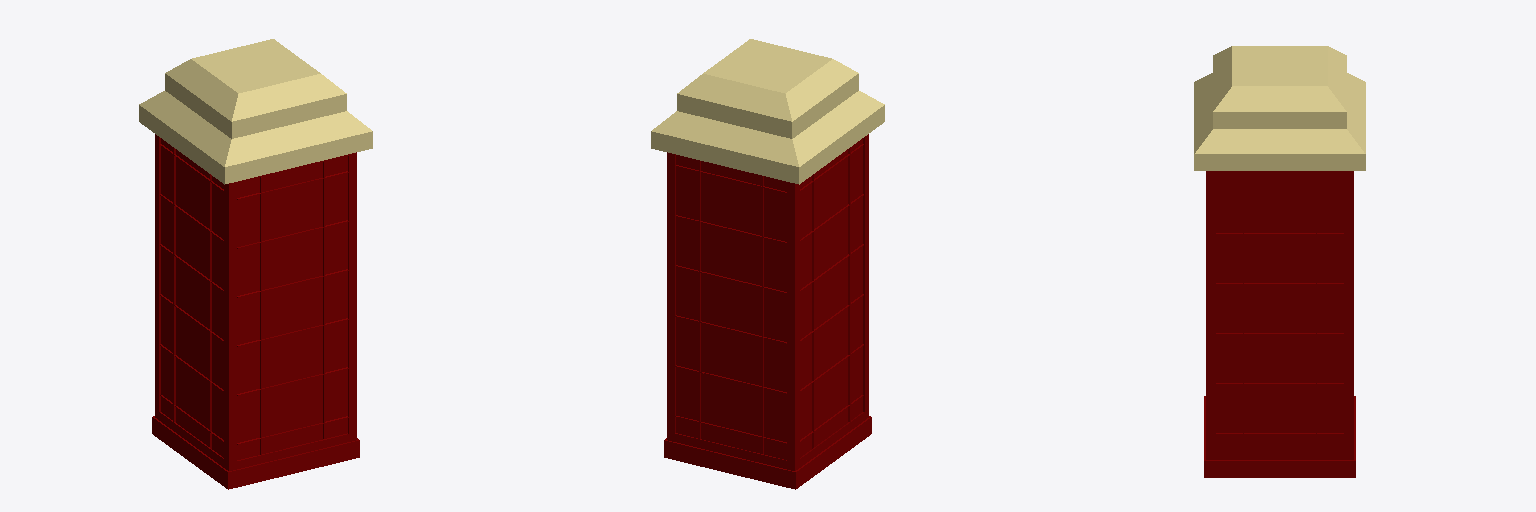
Rendered from PhoneBooth_001.obj.
3 views of the same model, side by side, from view 1: azimuth 30°, elevation 25°; view 2: azimuth 150°, elevation 25°; view 3: azimuth 270°, elevation 25° (orthographic).
Visible parts, largest first — view 1: door, Box001, Box003; view 2: Box001, Box003; view 3: Box001, Box003.
Boxes of the visible parts, x1=… form: door: x1=229, y1=152, x2=356, y2=470; Box001: x1=152, y1=134, x2=359, y2=489; Box003: x1=139, y1=39, x2=372, y2=184; Box001: x1=664, y1=134, x2=871, y2=489; Box003: x1=651, y1=39, x2=884, y2=184; Box001: x1=1204, y1=171, x2=1355, y2=477; Box003: x1=1194, y1=46, x2=1365, y2=170.
Bounding box in the file's own units: 90 × 220 × 90.